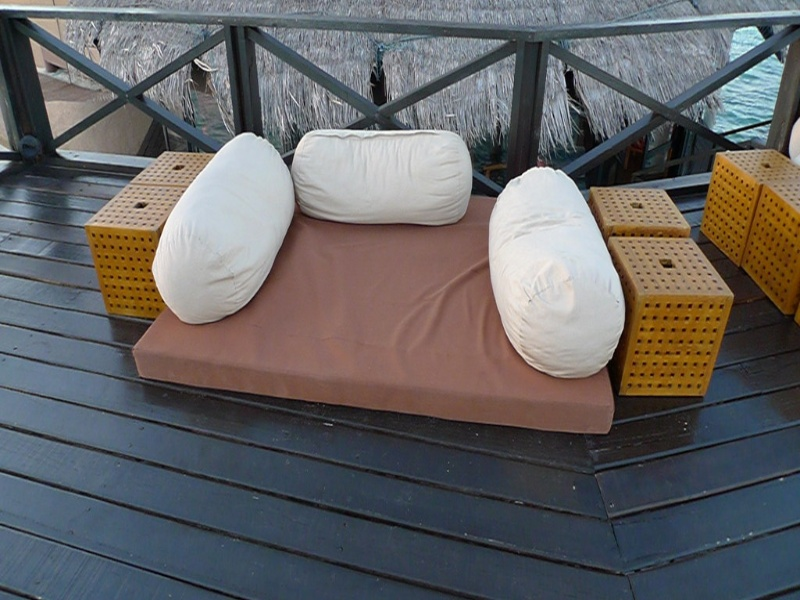couch: (91, 125, 730, 436)
